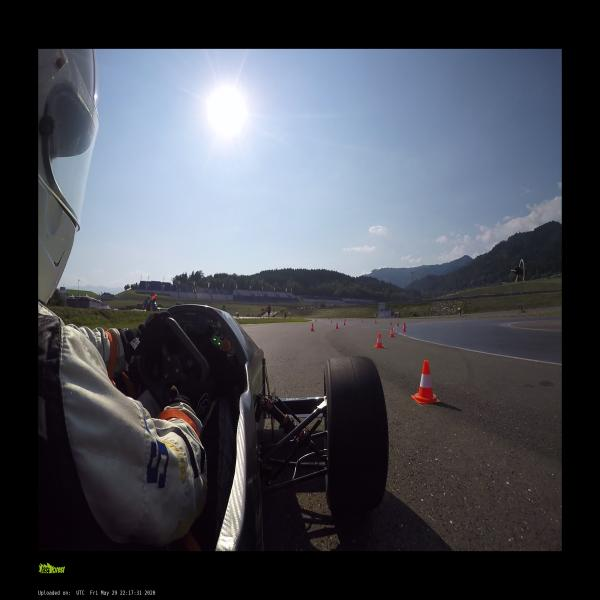orange_cone: (412, 359, 438, 403), (375, 333, 384, 348), (390, 328, 394, 337), (402, 324, 406, 331), (311, 324, 314, 331), (403, 322, 405, 330), (336, 322, 338, 328), (390, 320, 392, 325), (397, 321, 399, 326), (330, 319, 332, 323), (344, 321, 345, 325)
